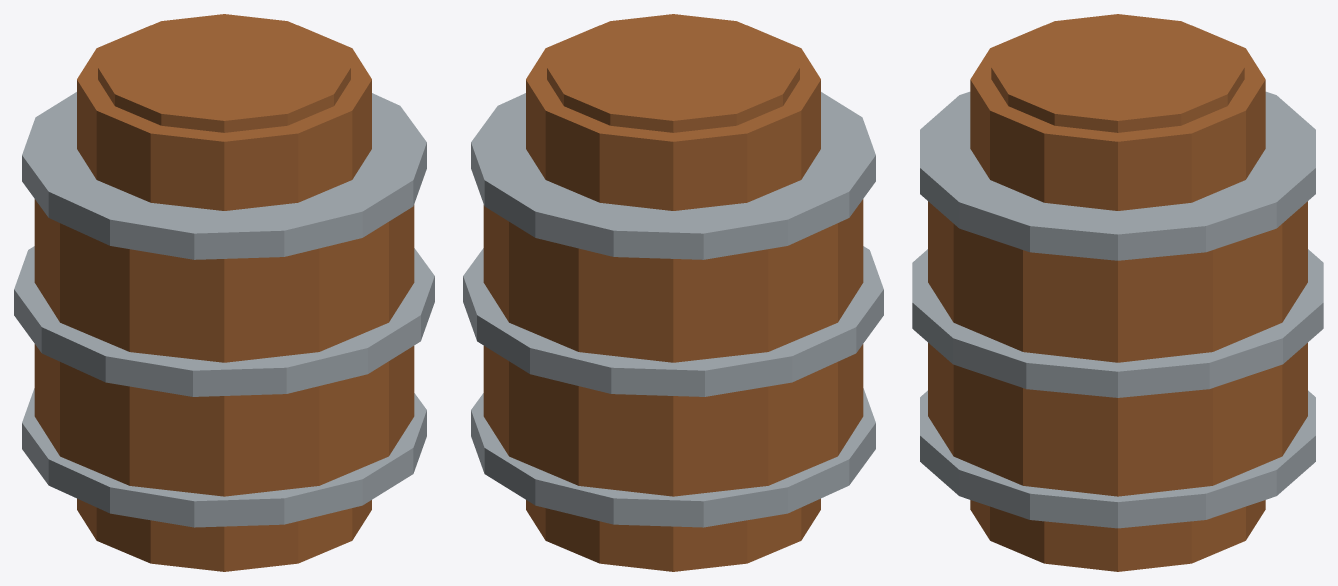
Rendered from barrel.glb.
The picture shows the model from 3 angles, left to right: view 1: azimuth 30°, elevation 25°; view 2: azimuth 150°, elevation 25°; view 3: azimuth 270°, elevation 25°; orthographic projection.
Parts seen in each view (by area): view 1: Barrel; view 2: Barrel; view 3: Barrel.
Part boxes in pixels (left/top/right/bottom): Barrel: left=14, top=14, right=434, bottom=571; Barrel: left=463, top=14, right=883, bottom=571; Barrel: left=912, top=14, right=1323, bottom=571.
Bounding box in the file's own units: 0.8 × 0.925 × 0.7799.
